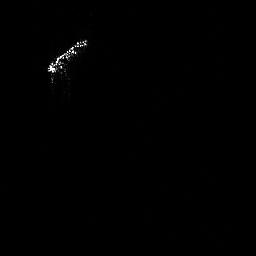ship: (46, 39, 89, 88)
